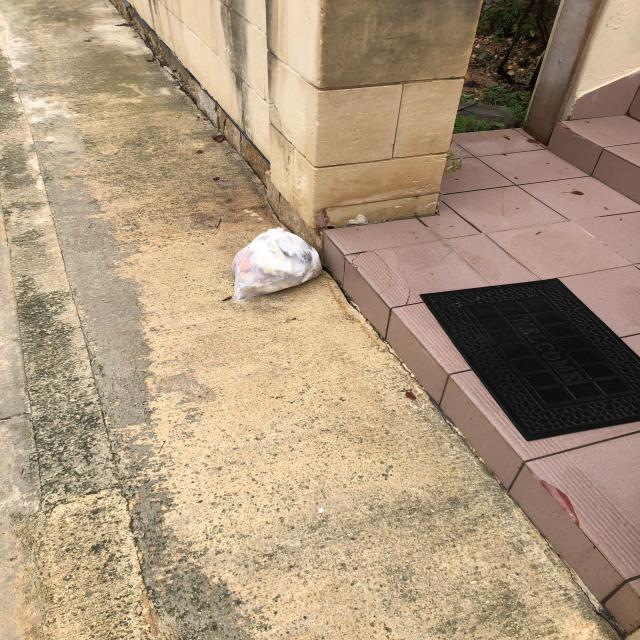Organic Waste -White Bag-: (235, 228, 324, 302)
